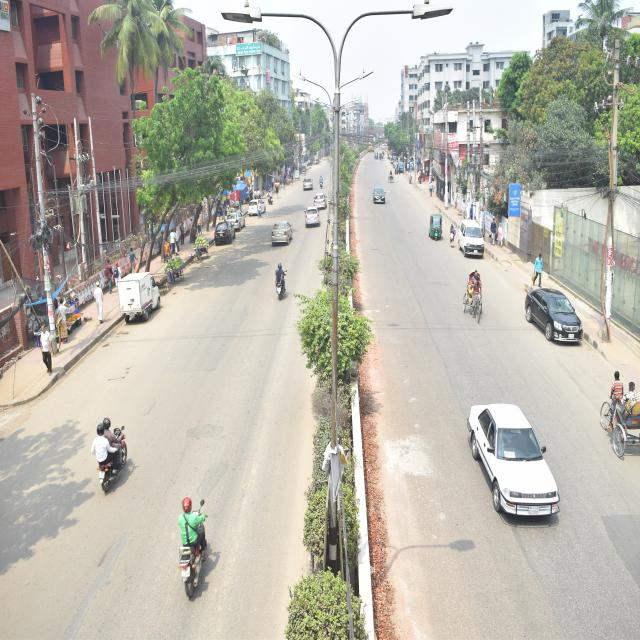car: (425, 358, 598, 540), (492, 244, 613, 390), (452, 207, 509, 279), (263, 209, 315, 276), (206, 219, 246, 271), (360, 174, 395, 221), (222, 189, 250, 240), (301, 203, 338, 240), (245, 186, 270, 226), (308, 182, 335, 212), (293, 171, 321, 195)
motorbike: (166, 494, 223, 640), (73, 395, 145, 496), (256, 234, 301, 312), (317, 167, 333, 200), (264, 184, 280, 211)
pickup-van: (114, 257, 180, 335), (392, 149, 410, 178)
